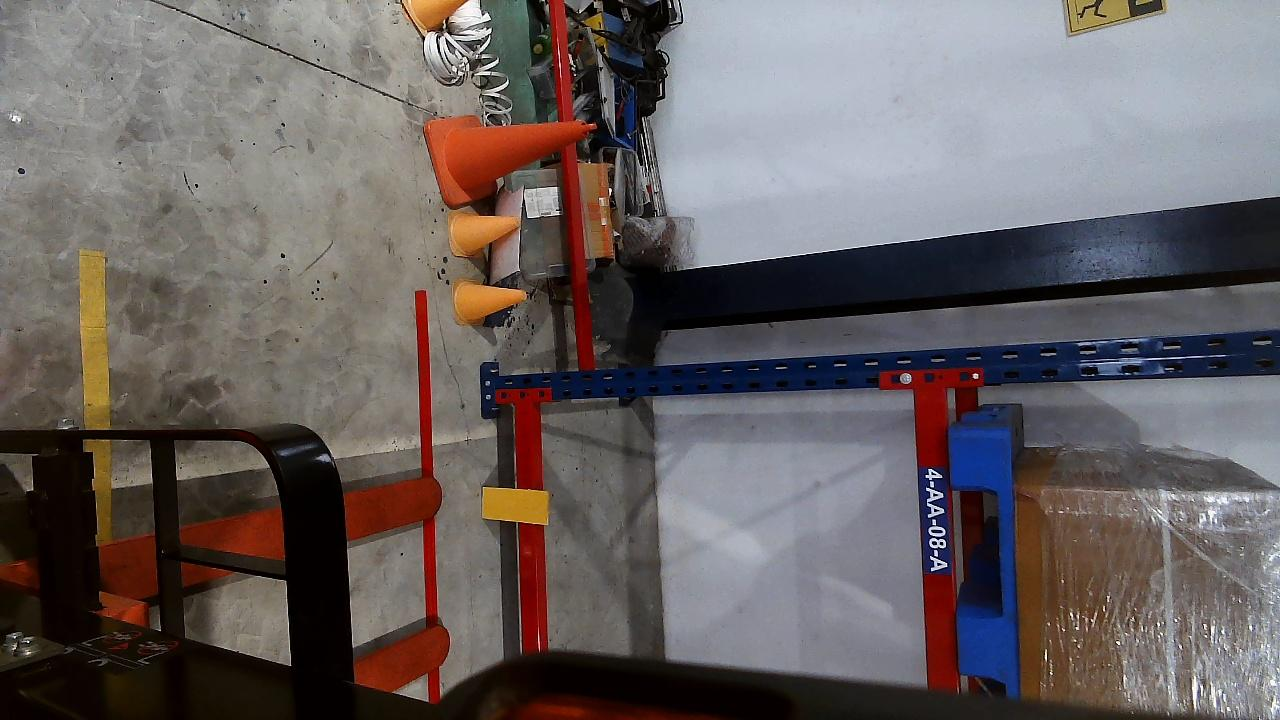h_rack: (910, 384, 964, 693), (512, 401, 544, 651)
orange_strip: (480, 486, 549, 523)
red_line: (412, 283, 444, 692)
small_pallet: (945, 429, 1020, 694)
yellow_line: (78, 248, 110, 428)
